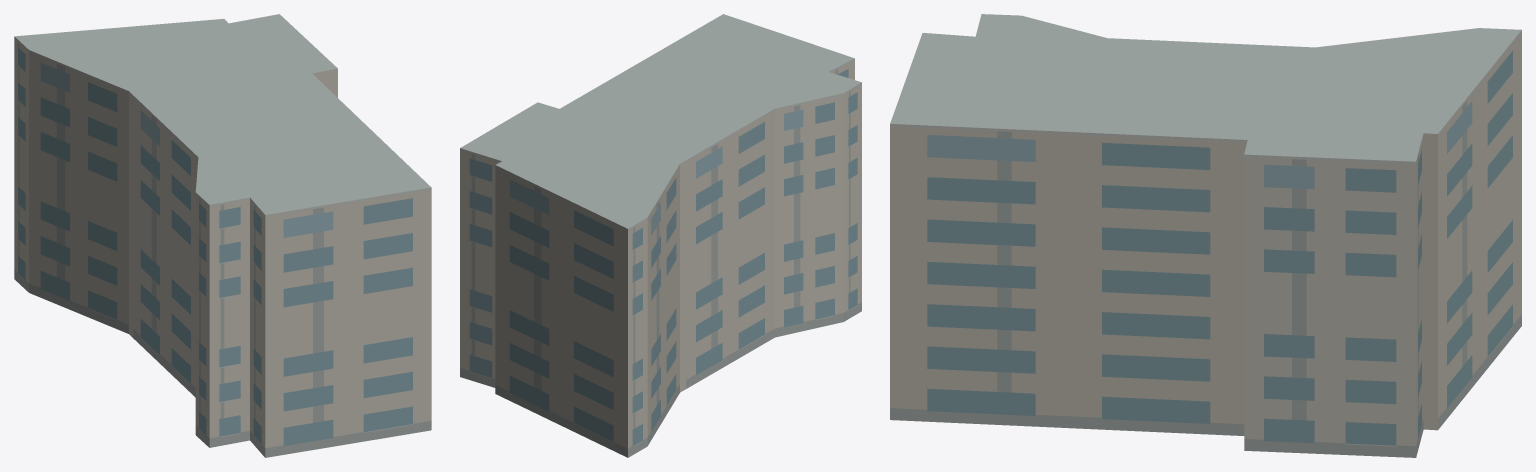
Rendered from survey-upis-32959981.glb.
3 views of the same model, side by side, from view 1: azimuth 30°, elevation 25°; view 2: azimuth 150°, elevation 25°; view 3: azimuth 270°, elevation 25° (orthographic). The views are drawn at different scales.
Parts seen in each view (by area): view 1: survey-upis-32959981.tmp; view 2: survey-upis-32959981.tmp; view 3: survey-upis-32959981.tmp.
Boxes of the visible parts, box(x1,y1,x2,y2) form: survey-upis-32959981.tmp: box(14, 14, 431, 457); survey-upis-32959981.tmp: box(460, 14, 861, 457); survey-upis-32959981.tmp: box(890, 14, 1521, 457).
Size of the model in its own units: 28.68 by 26.81 by 51.83.
